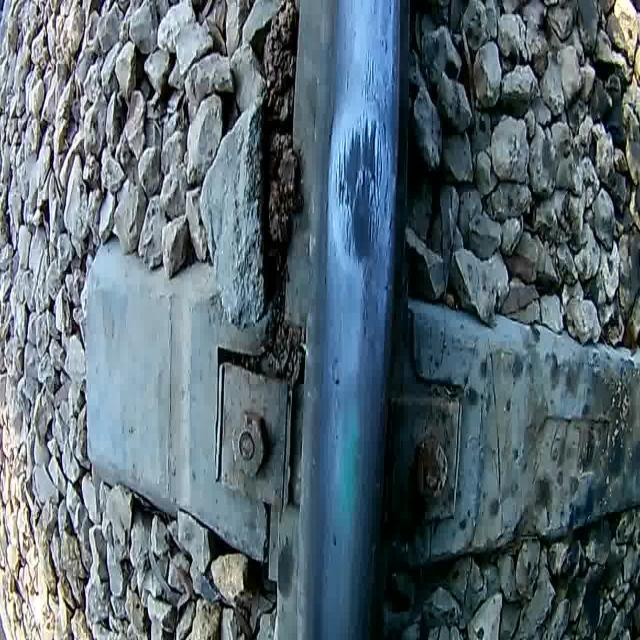Cracks: (373, 114, 392, 248)
Squats: (333, 112, 379, 268)
